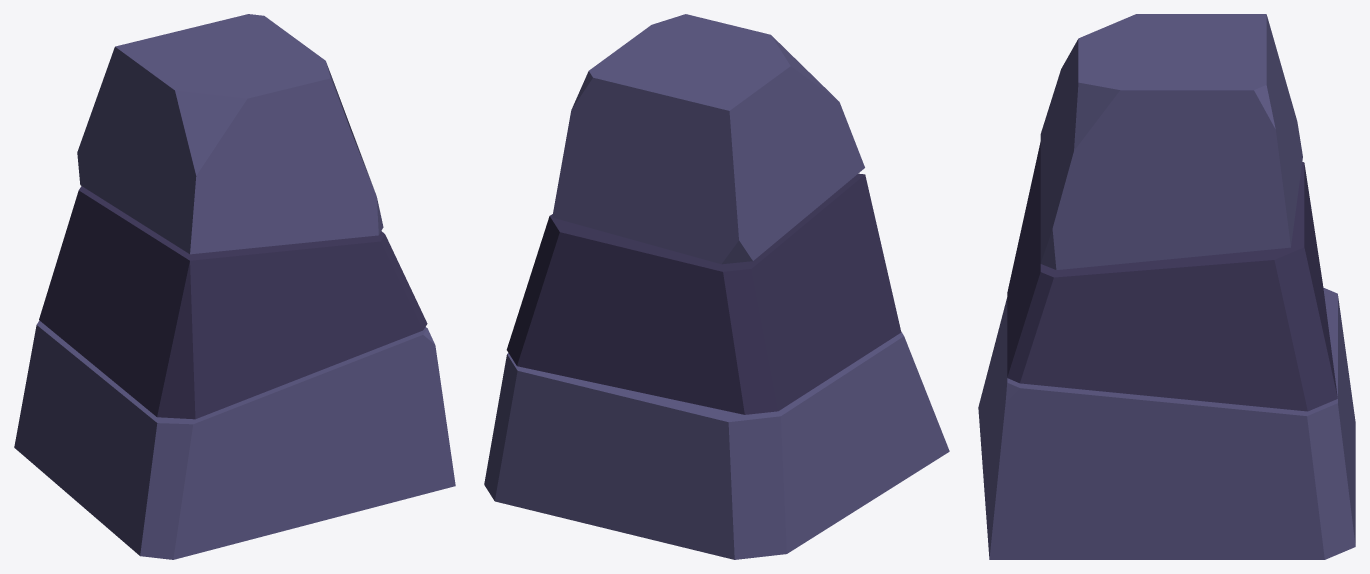
The model's file is Modular Base Corner 01.fbx.
3 views of the same model, side by side, from view 1: azimuth 30°, elevation 25°; view 2: azimuth 150°, elevation 25°; view 3: azimuth 270°, elevation 25° (orthographic). The views are drawn at different scales.
Parts seen in each view (by area): view 1: Modular Base Corner 01; view 2: Modular Base Corner 01; view 3: Modular Base Corner 01.
Boxes of the visible parts, x1,y1,x2,y2 form: Modular Base Corner 01: [14, 14, 455, 559]; Modular Base Corner 01: [484, 14, 949, 559]; Modular Base Corner 01: [978, 14, 1355, 559].
Size of the model in its own units: 162 by 200 by 158.
